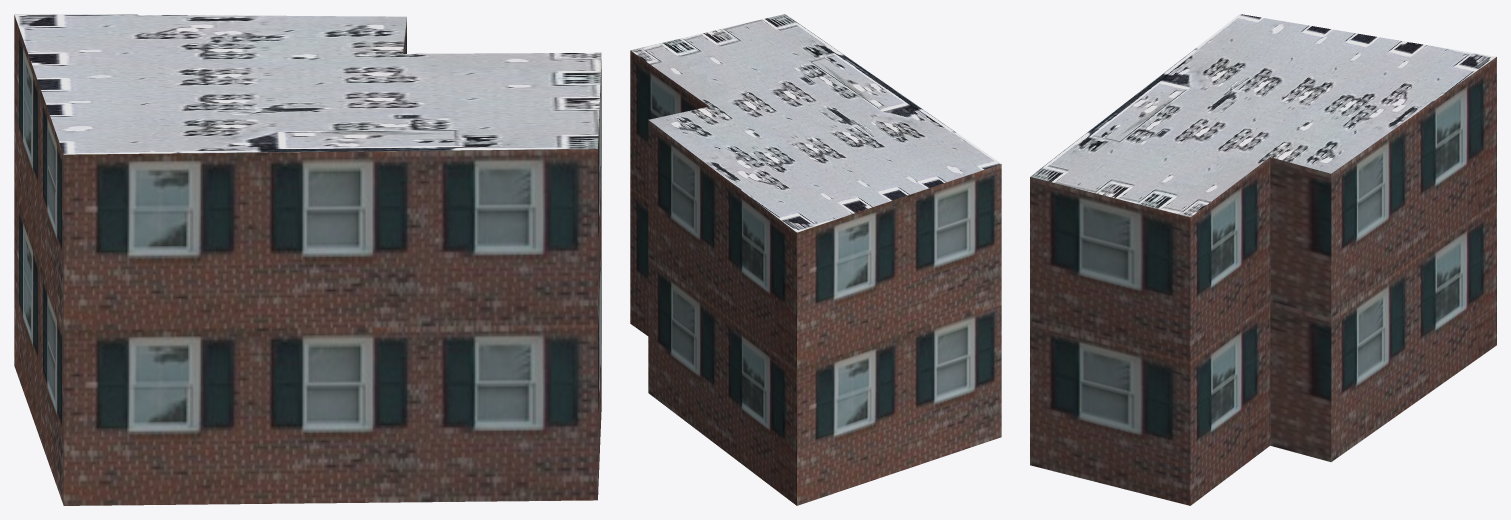
Rendered from ResTex__4704.fbx.
3 views of the same model, side by side, from view 1: azimuth 30°, elevation 25°; view 2: azimuth 150°, elevation 25°; view 3: azimuth 270°, elevation 25° (orthographic). The views are drawn at different scales.
Visible parts, largest first — view 1: CityEngineMaterial_14_m, CityEngineMaterial_m; view 2: CityEngineMaterial_14_m, CityEngineMaterial_m; view 3: CityEngineMaterial_14_m, CityEngineMaterial_m.
Boxes of the visible parts, x1,y1,x2,y2 form: CityEngineMaterial_14_m: (14,15,601,505); CityEngineMaterial_m: (14,14,601,154); CityEngineMaterial_14_m: (630,50,1001,505); CityEngineMaterial_m: (630,14,1001,232); CityEngineMaterial_14_m: (1030,57,1496,505); CityEngineMaterial_m: (1030,14,1496,217).
Size of the model in its own units: 9.08 by 6 by 8.8.
2 materials, 2 textured.
